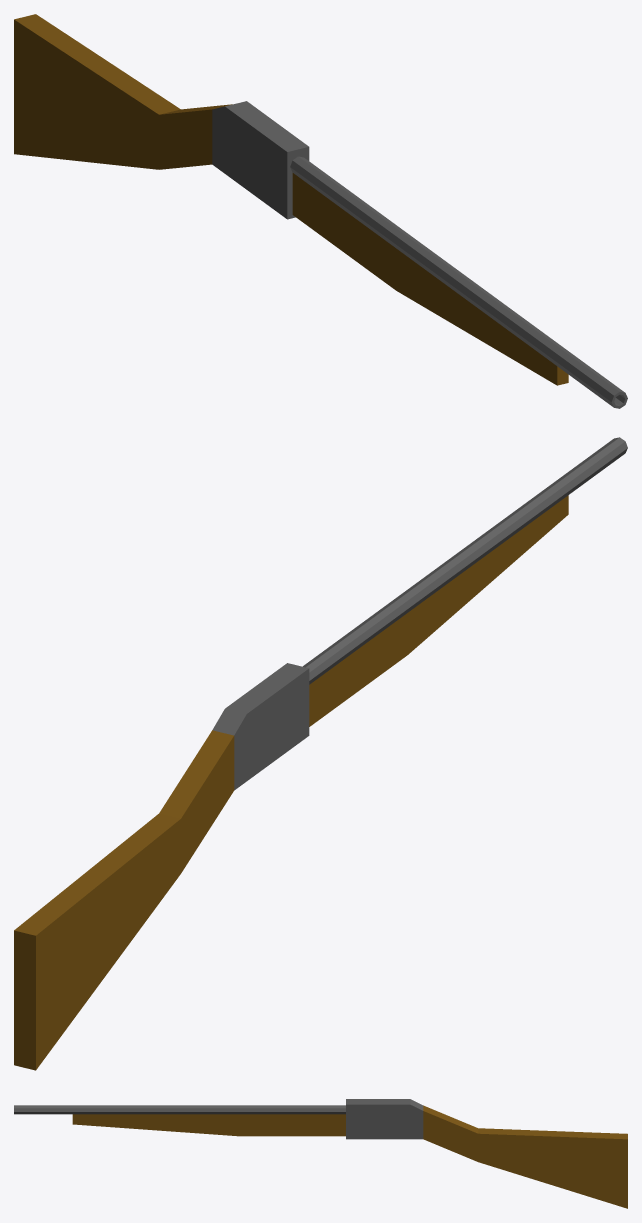
Rendered from MartiniRifle.fbx.
3 views of the same model, one above another, from view 1: azimuth 30°, elevation 25°; view 2: azimuth 150°, elevation 25°; view 3: azimuth 270°, elevation 25° (orthographic). The views are drawn at different scales.
Visible parts, largest first — view 1: Cube.001; view 2: Cube.001; view 3: Cube.001.
Boxes of the visible parts, x1,y1,x2,y2 form: Cube.001: (14, 14, 627, 408); Cube.001: (14, 437, 627, 1070); Cube.001: (14, 1099, 627, 1208).
Size of the model in its own units: 10.02 by 88.31 by 471.
